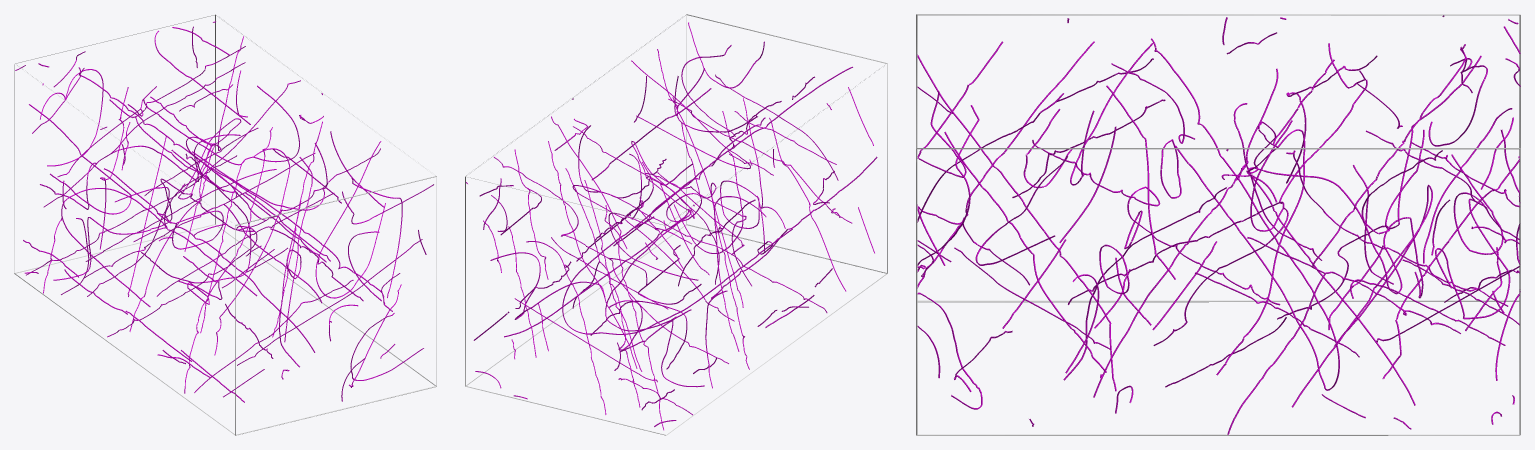
The picture shows the model from 3 angles, left to right: view 1: azimuth 30°, elevation 25°; view 2: azimuth 150°, elevation 25°; view 3: azimuth 270°, elevation 25°; orthographic projection. The views are drawn at different scales.
Parts seen in each view (by area): view 1: Shape_IndexedLineSet.001, Shape_IndexedLineSet; view 2: Shape_IndexedLineSet.001, Shape_IndexedLineSet; view 3: Shape_IndexedLineSet.001, Shape_IndexedLineSet.
Part boxes in pixels (x1=…): Shape_IndexedLineSet.001: x1=15, y1=21, x2=433, y2=402; Shape_IndexedLineSet: x1=14, y1=14, x2=436, y2=435; Shape_IndexedLineSet.001: x1=466, y1=22, x2=877, y2=430; Shape_IndexedLineSet: x1=465, y1=14, x2=887, y2=435; Shape_IndexedLineSet.001: x1=917, y1=15, x2=1520, y2=434; Shape_IndexedLineSet: x1=916, y1=14, x2=1520, y2=435.
Size of the model in its own units: 237 by 237 by 451.
